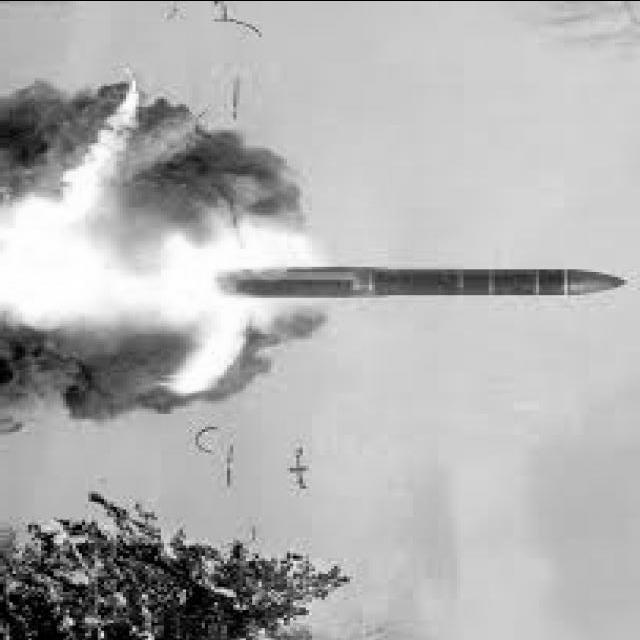Missile: (213, 252, 640, 316)
